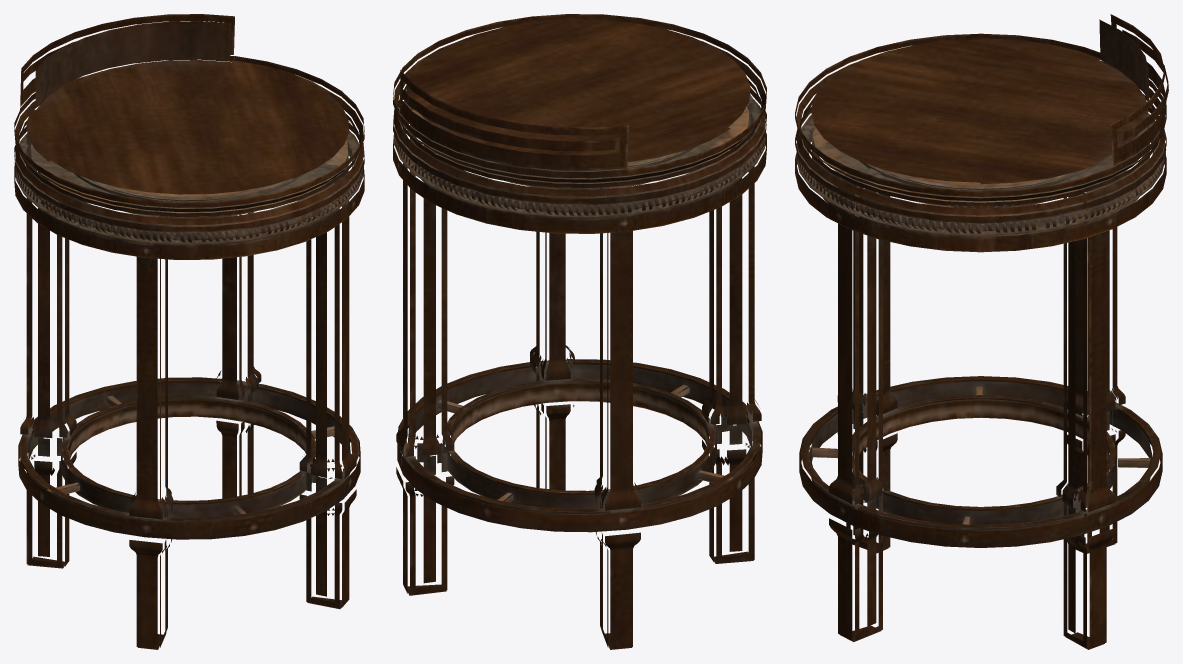
The model's file is tabouret.glb.
3 renders of one model, left to right at view 1: azimuth 30°, elevation 25°; view 2: azimuth 150°, elevation 25°; view 3: azimuth 270°, elevation 25°, orthographic. The views are drawn at different scales.
Parts seen in each view (by area): view 1: bar_chair_round_01; view 2: bar_chair_round_01; view 3: bar_chair_round_01.
Part boxes in pixels (x1,y1,x2,y2): bar_chair_round_01: [14, 14, 364, 649]; bar_chair_round_01: [393, 14, 766, 649]; bar_chair_round_01: [795, 14, 1168, 649].
Bounding box in the file's own units: 0.5613 × 0.8706 × 0.5646.
1 material, 1 textured.
